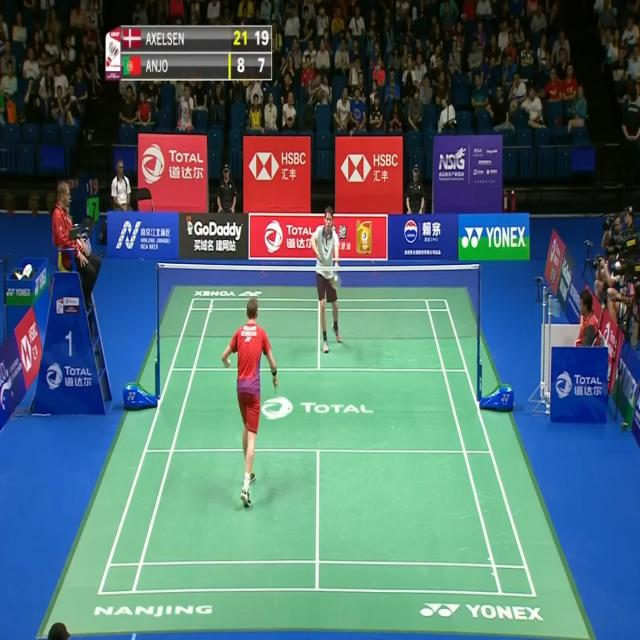Player1: (220, 293, 284, 519)
Player2: (307, 206, 347, 356)
